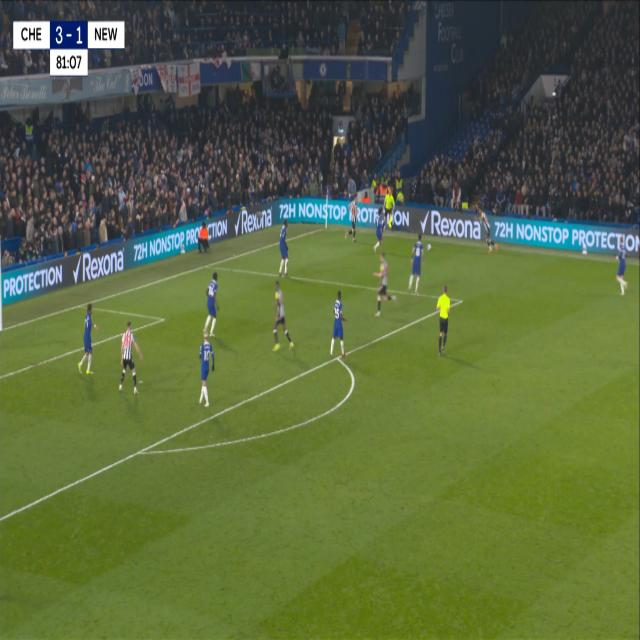Ball: (426, 239, 433, 258)
Chelsea: (76, 297, 100, 380), (328, 285, 350, 362), (202, 267, 222, 339), (275, 213, 293, 280), (409, 229, 423, 295), (614, 235, 628, 298), (372, 206, 387, 250)
New castle: (116, 316, 145, 400), (195, 327, 218, 412), (271, 282, 296, 358), (373, 253, 397, 319), (476, 205, 499, 258), (347, 193, 358, 239)
Refree: (433, 280, 453, 358)
